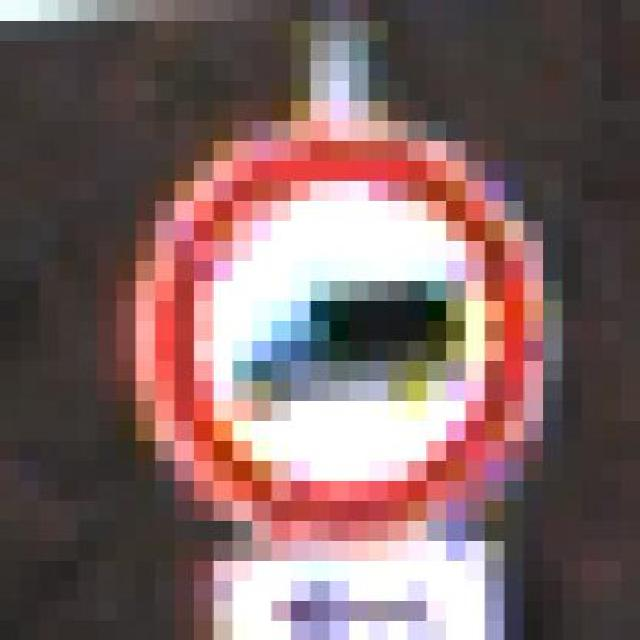Truck traffic is prohibited: (97, 100, 581, 540)
